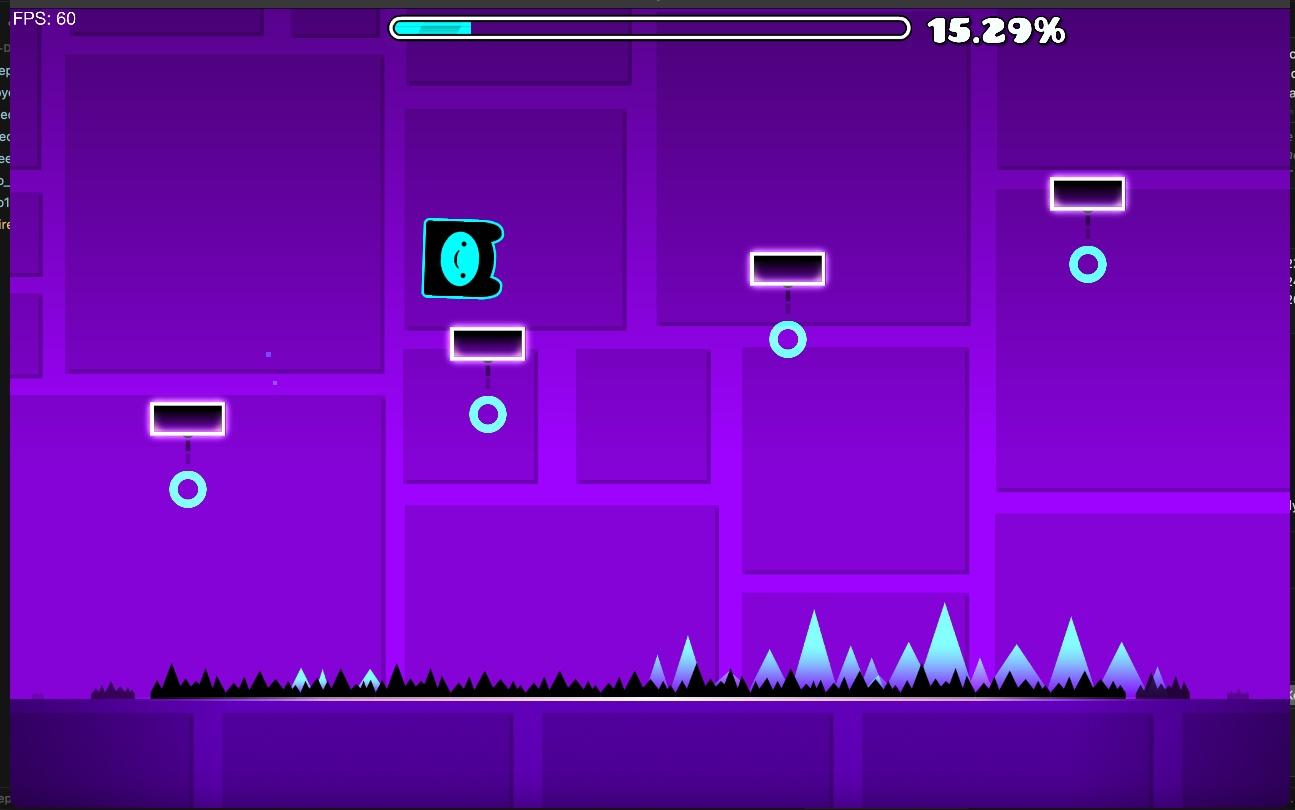platform: (749, 251, 827, 314), (449, 325, 526, 387), (1049, 177, 1126, 228), (150, 401, 225, 440), (469, 395, 506, 434), (1069, 245, 1107, 282), (769, 320, 806, 357), (171, 473, 206, 506)
player: (423, 218, 503, 299)
spike: (145, 600, 1189, 699)
